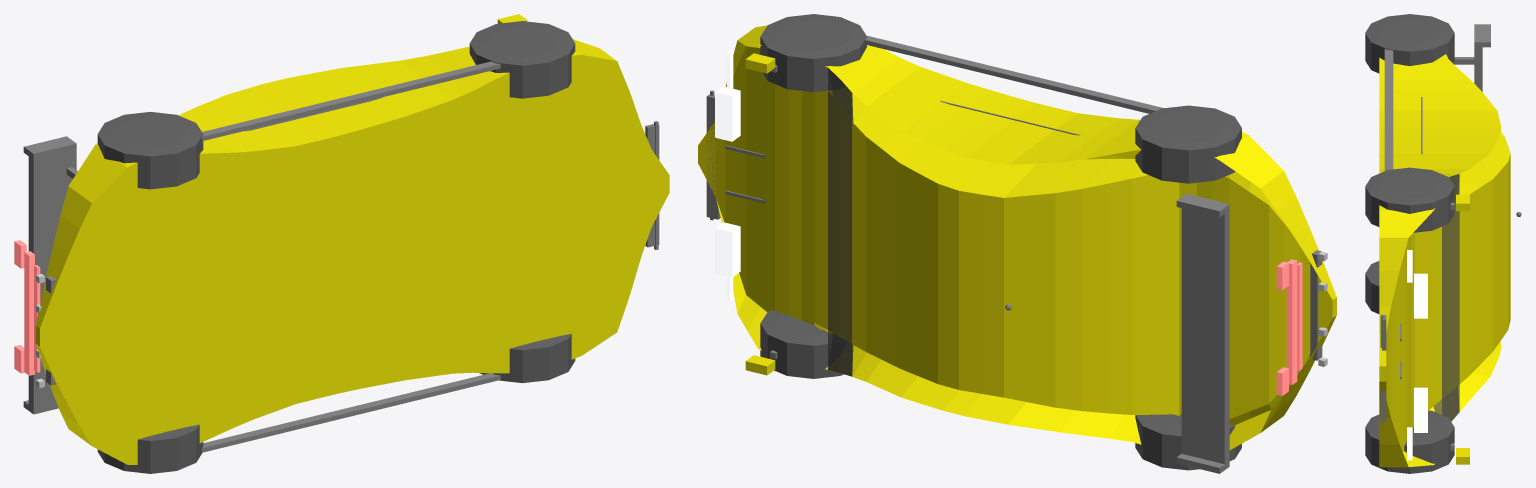
Rendered from Vehicle_4_6.glb.
The picture shows the model from 3 angles, left to right: view 1: azimuth 30°, elevation 25°; view 2: azimuth 150°, elevation 25°; view 3: azimuth 270°, elevation 25°; orthographic projection. The views are drawn at different scales.
Parts seen in each view (by area): view 1: Body, Wheel_-1.3_0.95, Wheel_1.3_0.95, SpoilerWing, SkirtR, SkirtL, Wheel_-1.3_-0.95, Wheel_1.3_-0.95, TaillightBar, SpoilerEndR; view 2: Body, SpoilerWing, Windows, Wheel_-1.3_0.95, Wheel_1.3_0.95, Wheel_1.3_-0.95, SkirtR, Wheel_-1.3_-0.95, TaillightBar, HL_R, HL_L, Diffuser (+2 smaller); view 3: Body, Wheel_1.3_0.95, Wheel_-1.3_0.95, Windows, Wheel_1.3_-0.95, SkirtR, Wheel_-1.3_-0.95, HL_L, HL_R, SpoilerEndR, SpoilerWing, Splitter (+4 smaller).
Part boxes in pixels (<box>): Body: <box>35,39,669,464</box>; Wheel_-1.3_0.95: <box>97,112,203,189</box>; Wheel_1.3_0.95: <box>469,21,575,98</box>; SpoilerWing: <box>28,148,76,411</box>; SkirtR: <box>202,61,500,141</box>; SkirtL: <box>202,373,500,452</box>; Wheel_-1.3_-0.95: <box>97,424,203,473</box>; Wheel_1.3_-0.95: <box>479,333,575,383</box>; TaillightBar: <box>24,251,34,375</box>; SpoilerEndR: <box>23,136,76,159</box>; Body: <box>698,25,1336,449</box>; SpoilerWing: <box>1181,208,1229,464</box>; Windows: <box>828,68,853,376</box>; Wheel_-1.3_0.95: <box>1135,105,1241,183</box>; Wheel_1.3_0.95: <box>760,14,866,92</box>; Wheel_1.3_-0.95: <box>760,310,843,378</box>; SkirtR: <box>865,35,1163,113</box>; Wheel_-1.3_-0.95: <box>1135,414,1241,470</box>; TaillightBar: <box>1286,259,1297,384</box>; HL_R: <box>715,86,740,141</box>; HL_L: <box>715,222,740,277</box>; Diffuser: <box>1309,250,1322,360</box>; Body: <box>1379,54,1510,467</box>; Wheel_1.3_0.95: <box>1365,167,1454,232</box>; Wheel_-1.3_0.95: <box>1365,14,1454,73</box>; Windows: <box>1433,174,1459,421</box>; Wheel_1.3_-0.95: <box>1365,410,1454,473</box>; SkirtR: <box>1384,49,1393,170</box>; Wheel_-1.3_-0.95: <box>1365,261,1379,313</box>; HL_L: <box>1414,387,1427,432</box>; HL_R: <box>1414,273,1427,318</box>; SpoilerEndR: <box>1474,24,1490,47</box>; SpoilerWing: <box>1474,45,1482,91</box>; Splitter: <box>1382,315,1386,420</box>.
Size of the model in its own units: 4.4 by 2.13 by 1.12.
